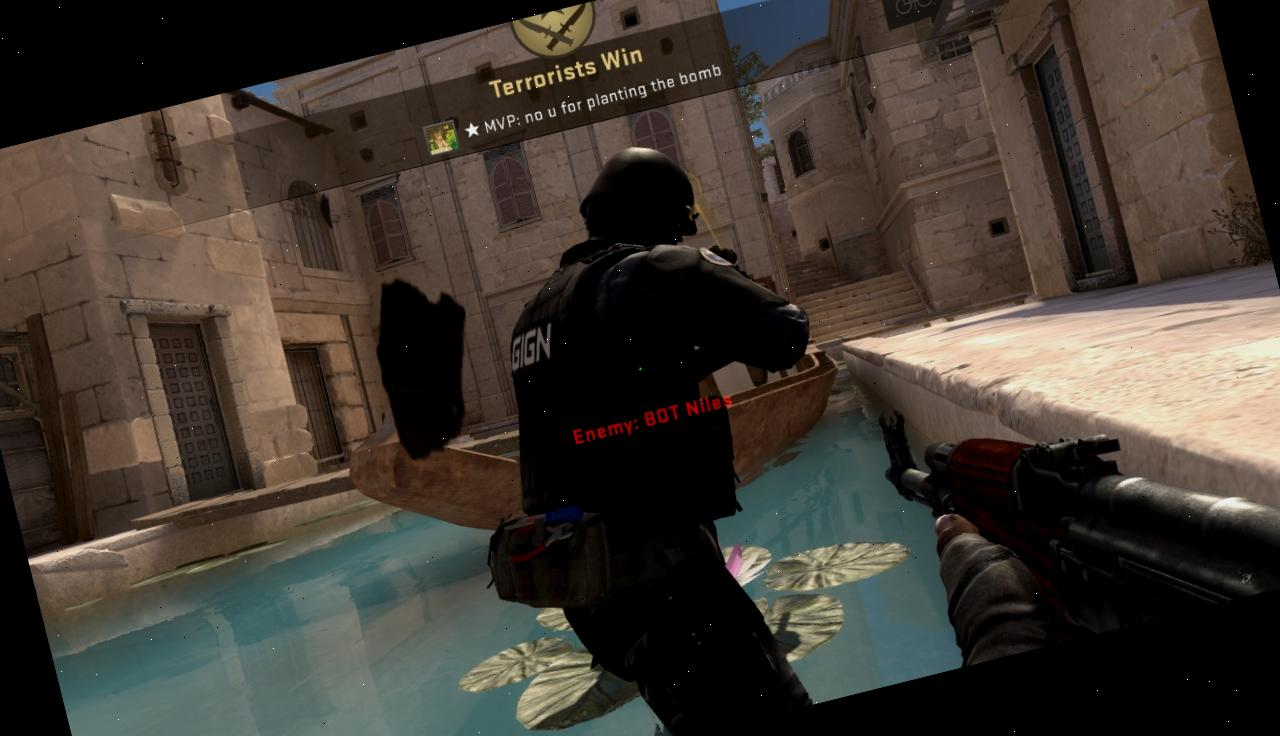ct: (453, 127, 830, 736)
cthead: (572, 133, 704, 260)
rifle: (867, 315, 1280, 675)
